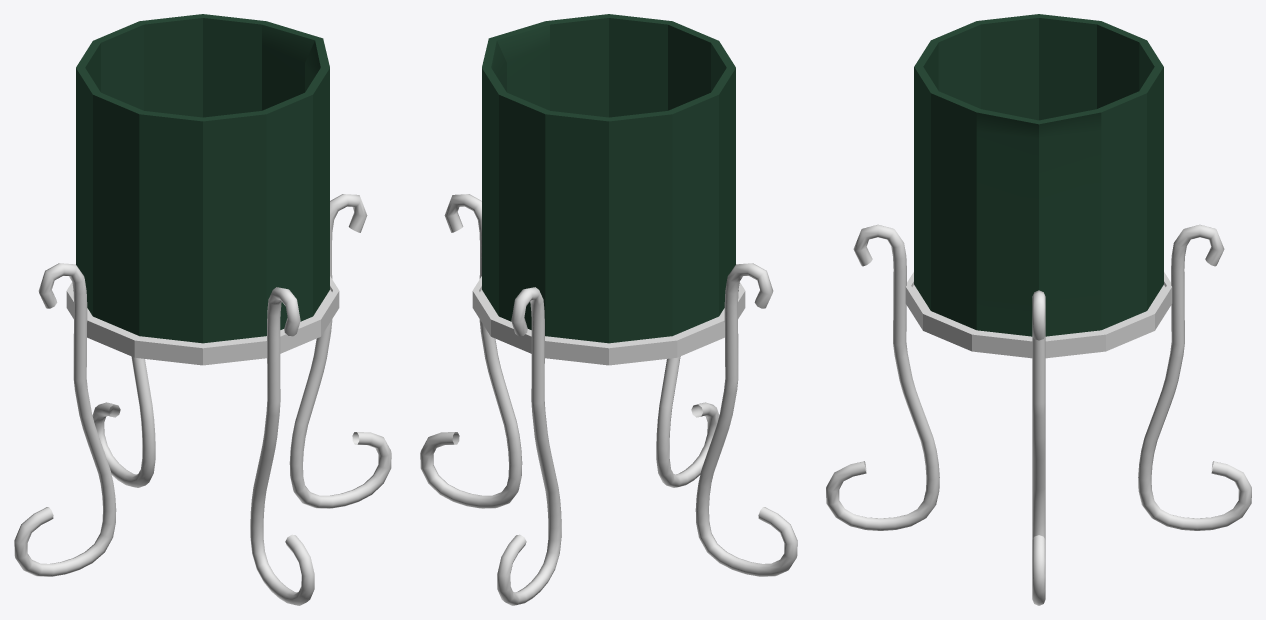
File: flask04.fbx
3 views of the same model, side by side, from view 1: azimuth 30°, elevation 25°; view 2: azimuth 150°, elevation 25°; view 3: azimuth 270°, elevation 25° (orthographic).
Visible parts, largest first — view 1: polySurface78, sweep19; view 2: polySurface78, sweep19; view 3: polySurface78, sweep19.
Boxes of the visible parts, box(x1,y1,x2,y2) form: polySurface78: box(76, 14, 329, 343); sweep19: box(14, 194, 391, 605); polySurface78: box(482, 14, 735, 343); sweep19: box(420, 194, 797, 605); polySurface78: box(914, 14, 1163, 336); sweep19: box(826, 224, 1251, 605).
Size of the model in its own units: 1.27 by 1.52 by 1.27.
